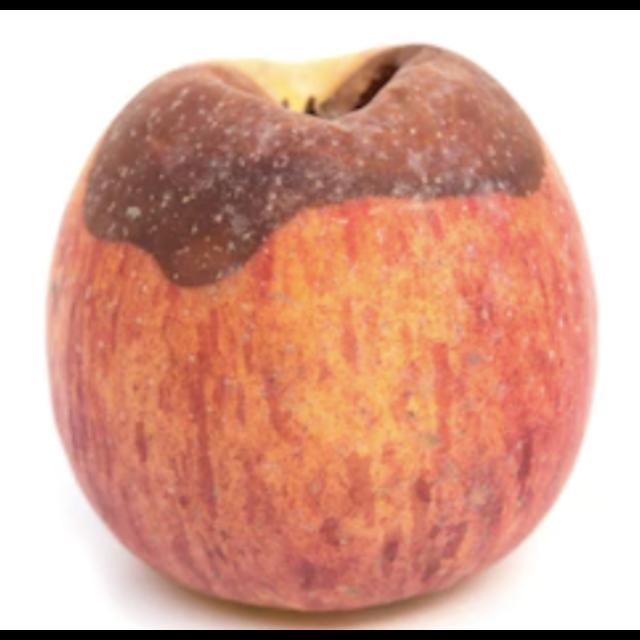Apel Tidak Segar: (32, 39, 598, 605)
